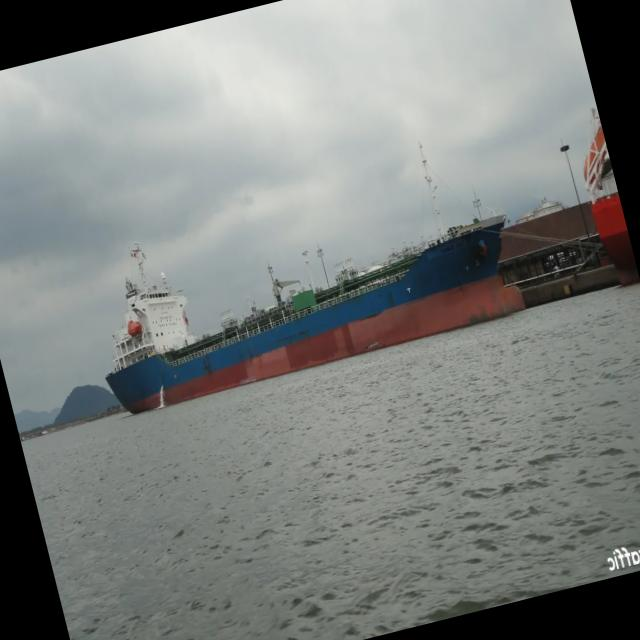Tanker: (106, 157, 525, 413)
